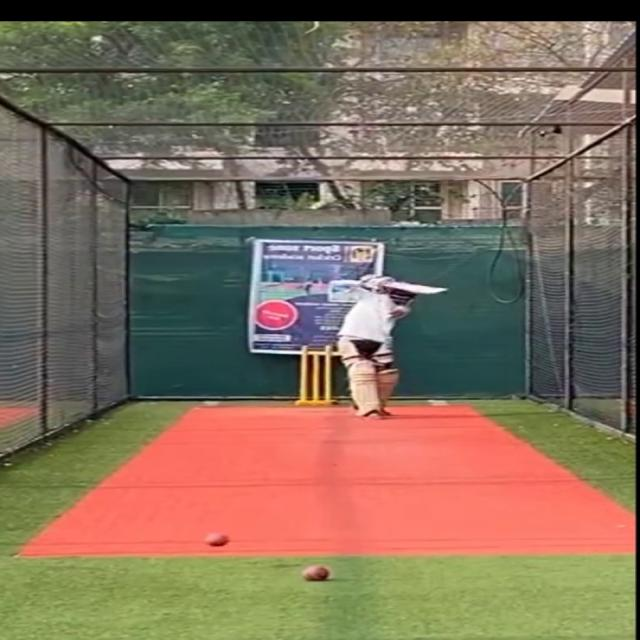ball: (301, 563, 335, 582), (205, 531, 234, 548)
stump: (295, 343, 338, 408)
